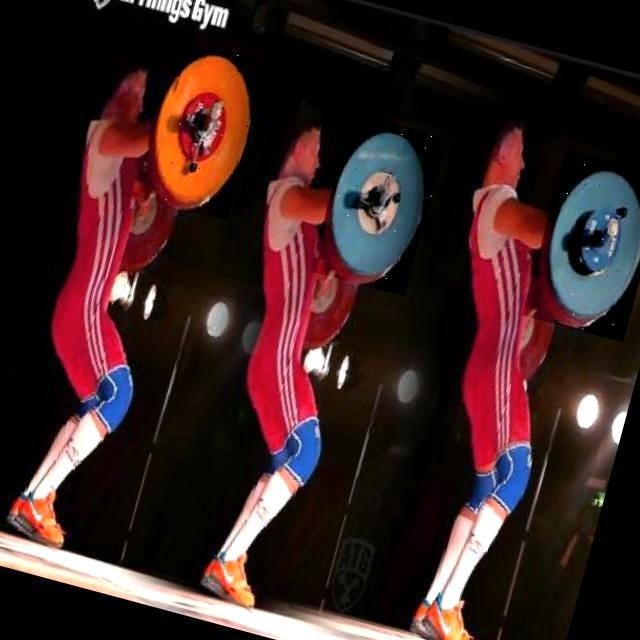barbell: (133, 37, 270, 222), (311, 113, 447, 297), (522, 150, 640, 342)
